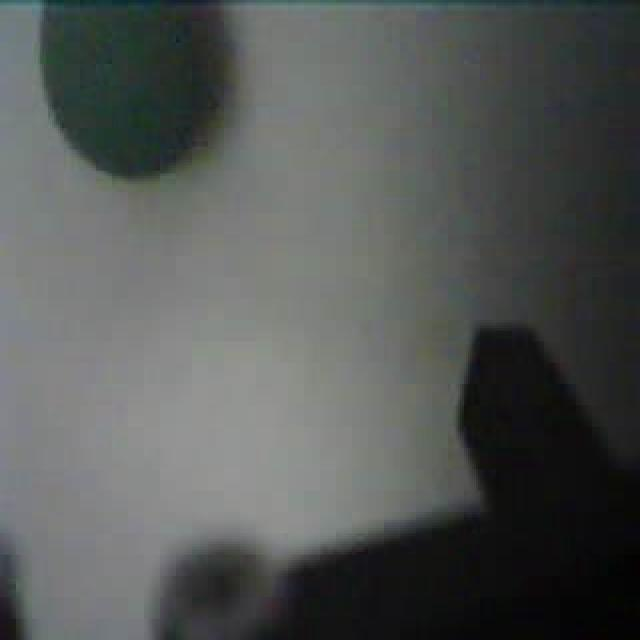green_ball: (34, 0, 232, 184)
